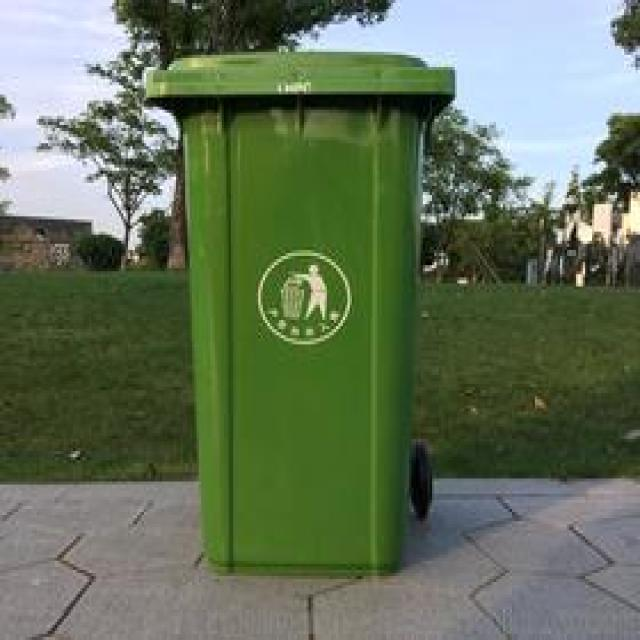garbage_bin: (142, 46, 455, 567)
